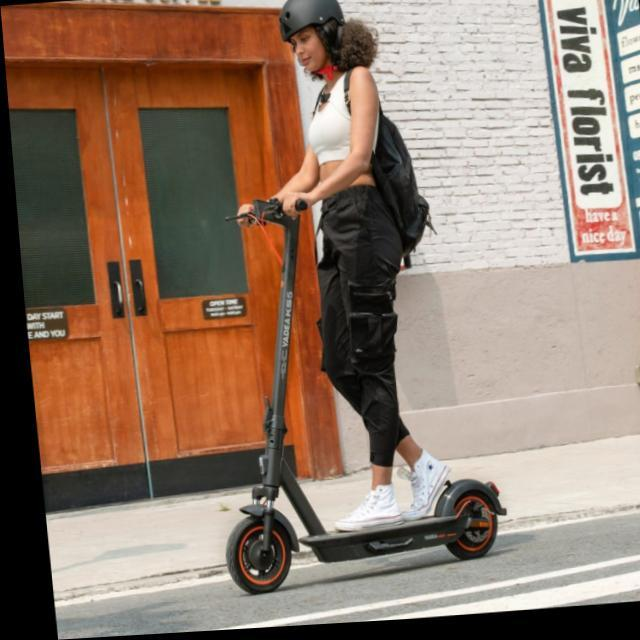Helmet: (273, 0, 349, 82)
